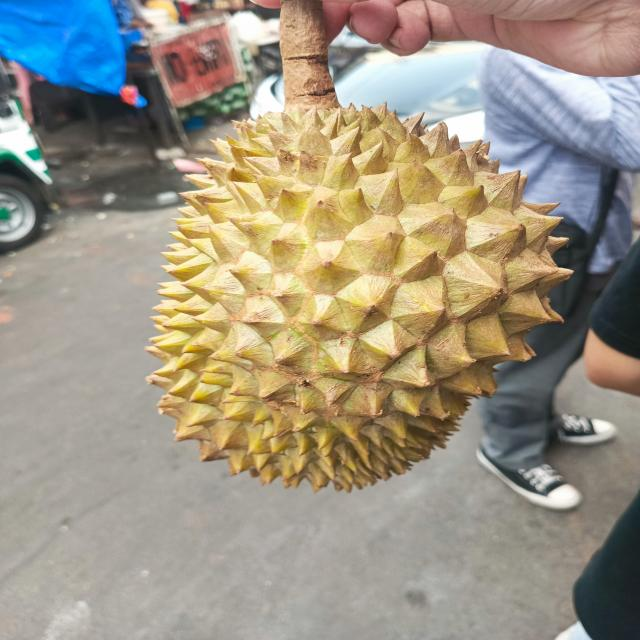mature: (143, 97, 569, 489)
